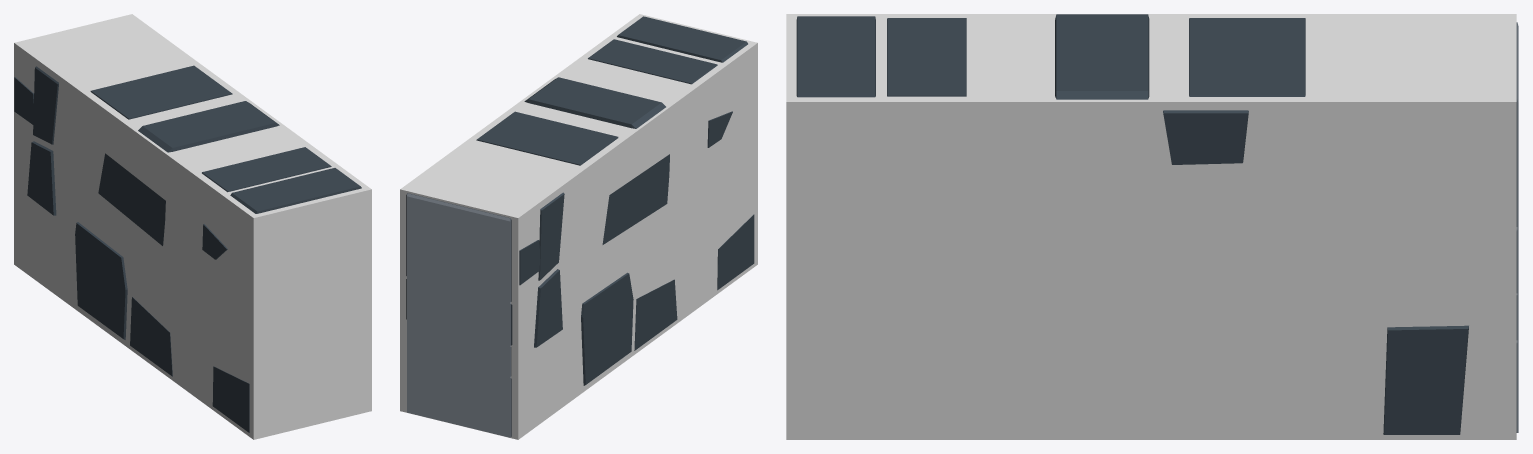
File: StoneWallsSet.fbx
3 renders of one model, left to right at view 1: azimuth 30°, elevation 25°; view 2: azimuth 150°, elevation 25°; view 3: azimuth 270°, elevation 25°, orthographic. The views are drawn at different scales.
Visible parts, largest first — view 1: SM_StoneWall_Full_Col, SM_StoneWall_Full_Var3, SM_StoneWall_Full_Var2, SM_StoneWall_Full_Var1; view 2: SM_StoneWall_Full_Col, SM_StoneWall_Full_Var1, SM_StoneWall_Full_Var2, SM_StoneWall_Full_Var3; view 3: SM_StoneWall_Full_Col, SM_StoneWall_Full_Var2, SM_StoneWall_Full_Var3, SM_StoneWall_Full_Var1.
Boxes of the visible parts, x1,y1,x2,y2 form: SM_StoneWall_Full_Col: (14,14,371,439); SM_StoneWall_Full_Var3: (14,77,361,432); SM_StoneWall_Full_Var2: (27,66,279,259); SM_StoneWall_Full_Var1: (90,65,232,119); SM_StoneWall_Full_Col: (400,14,757,439); SM_StoneWall_Full_Var1: (406,111,618,437); SM_StoneWall_Full_Var2: (407,77,732,437); SM_StoneWall_Full_Var3: (407,16,754,436); SM_StoneWall_Full_Col: (786,14,1516,439); SM_StoneWall_Full_Var2: (1055,14,1518,434); SM_StoneWall_Full_Var3: (796,16,1518,432); SM_StoneWall_Full_Var1: (1189,18,1518,432).
Bounding box in the file's own units: 299 × 521 × 1007.
